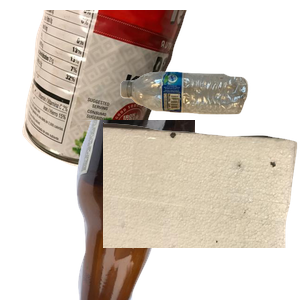glass: (60, 120, 300, 300)
metal: (20, 10, 199, 172)
plastic: (118, 69, 300, 176)
trash: (103, 120, 300, 300)
